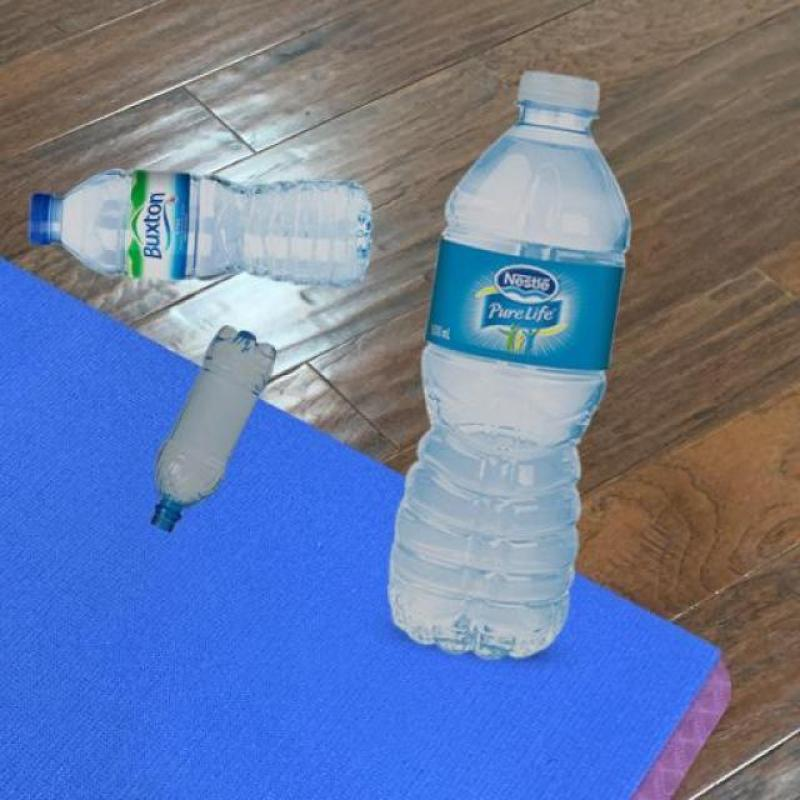botella: (391, 72, 635, 659), (27, 168, 372, 288), (150, 327, 278, 534)
